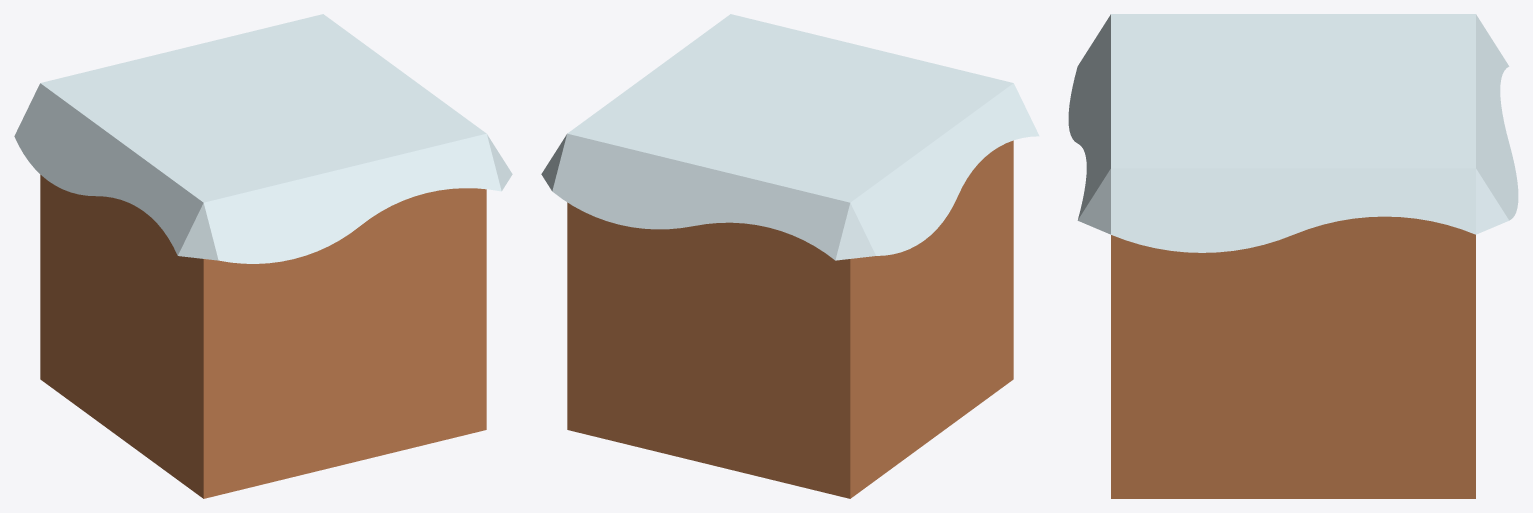
The model's file is blockSnow.dae.
3 renders of one model, left to right at view 1: azimuth 30°, elevation 25°; view 2: azimuth 150°, elevation 25°; view 3: azimuth 270°, elevation 25°, orthographic. The views are drawn at different scales.
Parts seen in each view (by area): view 1: blockSnow; view 2: blockSnow; view 3: blockSnow.
Part boxes in pixels (box(x1,y1,x2,y2)): blockSnow: box(14, 14, 512, 498); blockSnow: box(541, 14, 1039, 498); blockSnow: box(1068, 14, 1518, 498).
Size of the model in its own units: 1.23 by 1 by 1.23.
